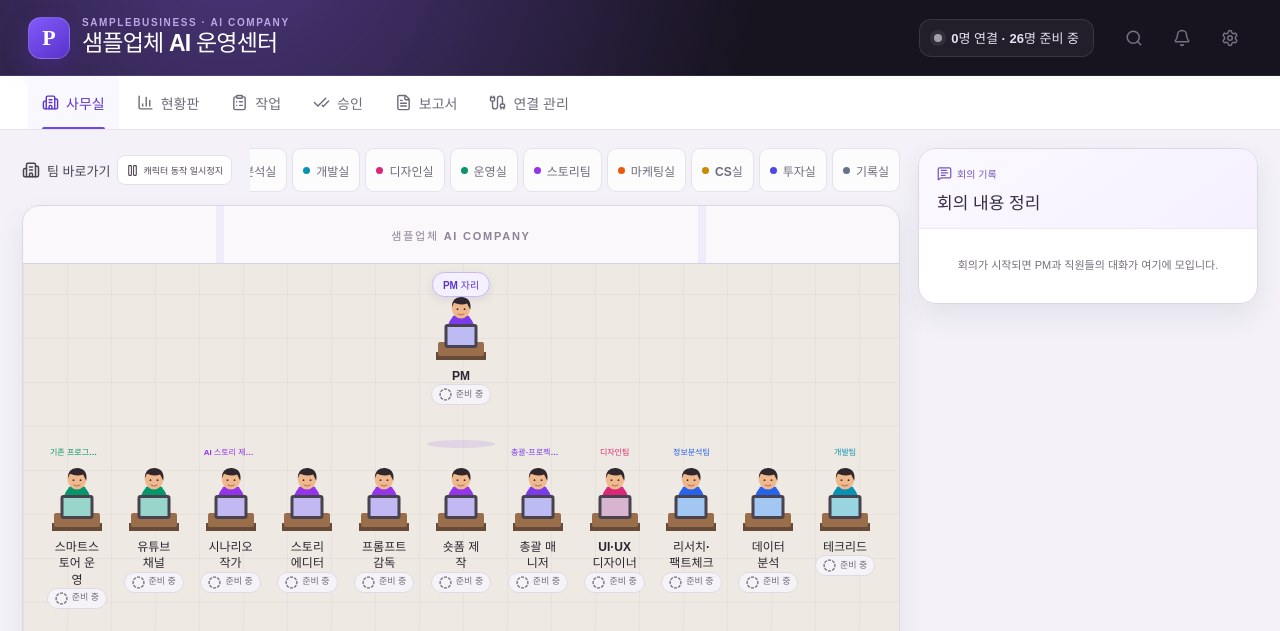
Test: AI 운영센터 사무실 › 상단 메뉴를 전환하고 실제 활동이 없다는 빈 상태를 보여준다
Click the button "현황판": (168, 102) [123,76,213,129]
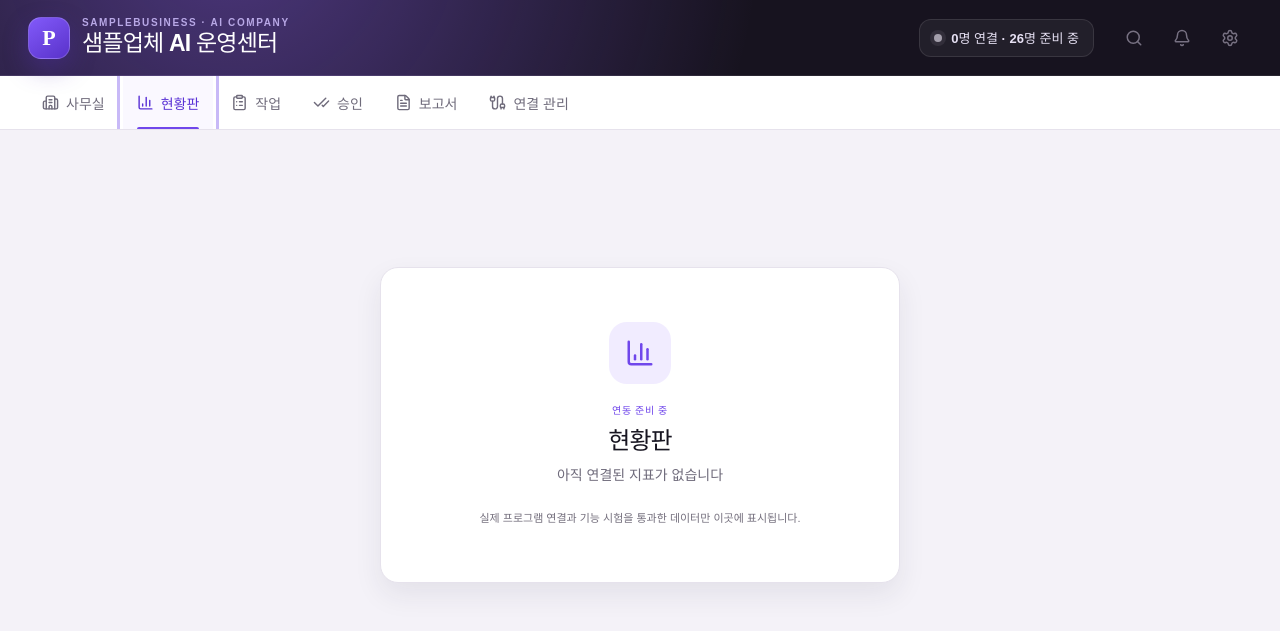
Expected: the heading "현황판" is shown, [608,427,672,454]
Expected: the text "아직 연결된 지표가 없습니다" is shown, [557,467,723,483]
